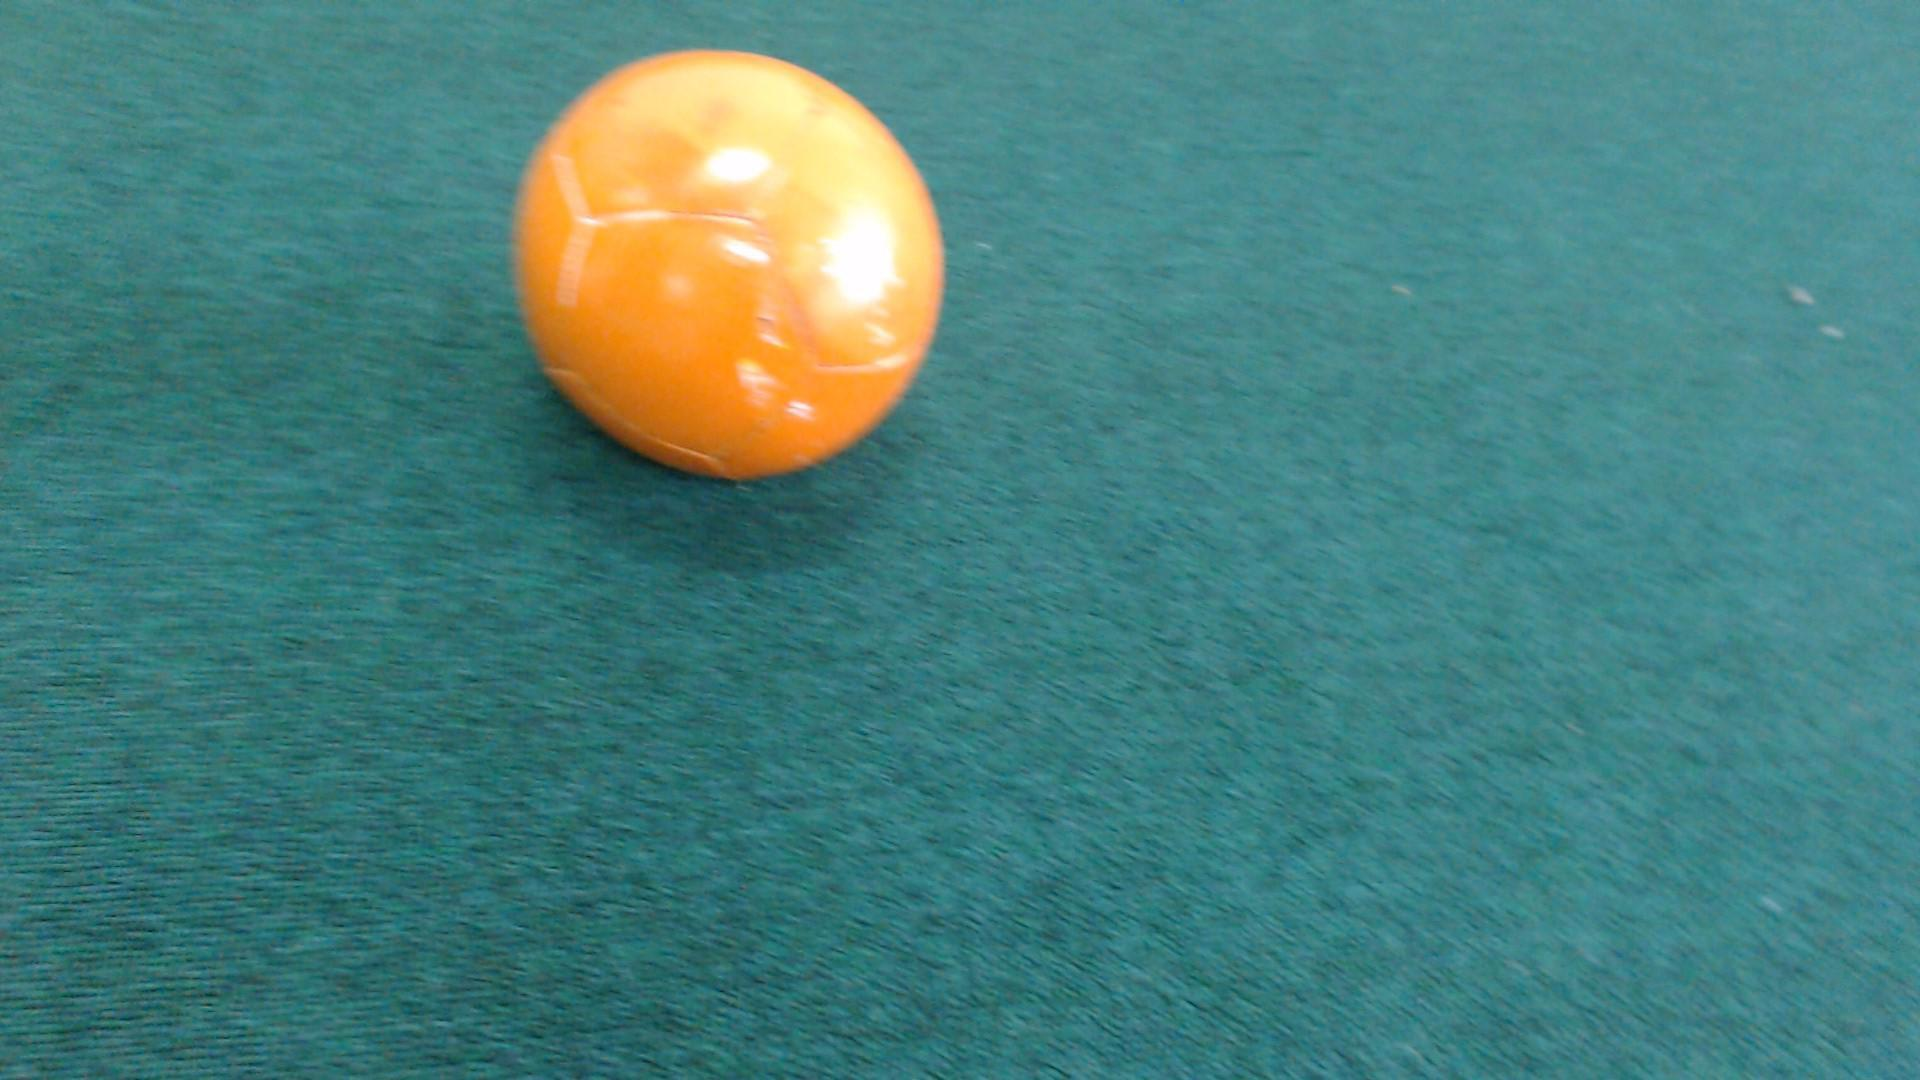bola: (479, 26, 956, 495)
